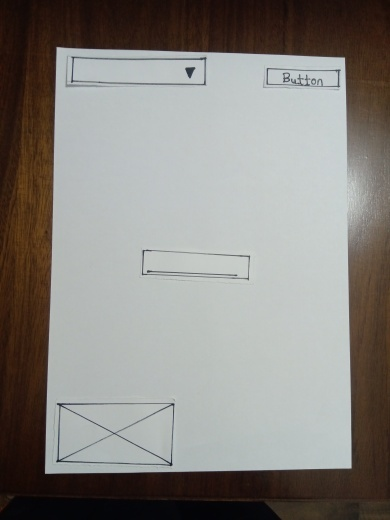button: (264, 69, 340, 87)
dropdown: (70, 53, 208, 87)
img: (57, 403, 174, 466)
text: (143, 253, 256, 278)
